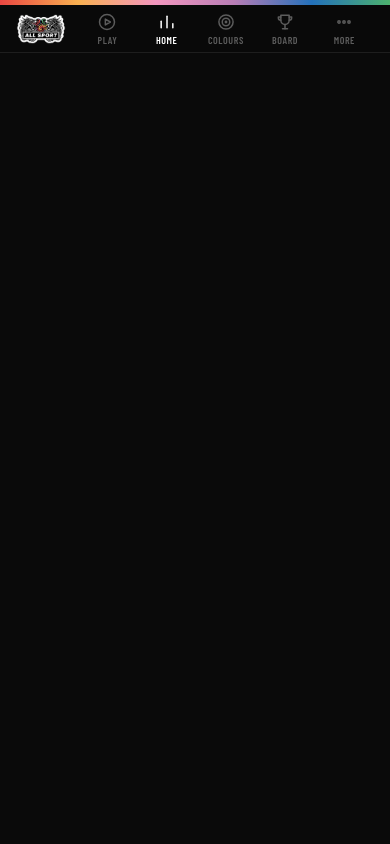
Scenario: phone tabs › MORE opens outside the bar and holds the player’s own things only
Click the button "More" at (344, 28), box [315, 6, 374, 50]
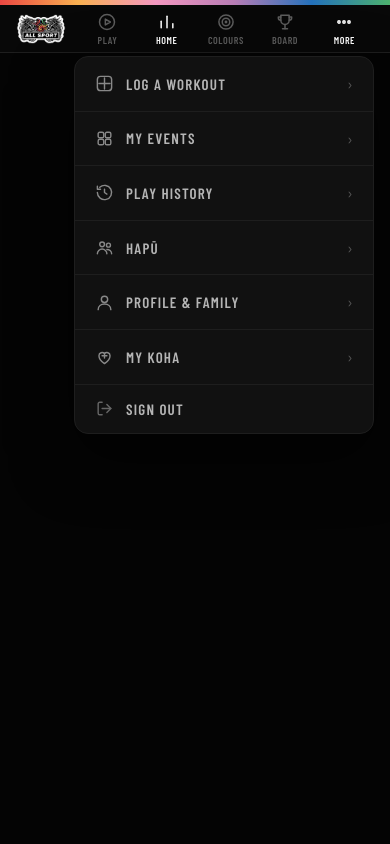
Result: the dialog shows "Log a workout" at [75, 57, 373, 112]
Result: the dialog shows "My events" at [75, 112, 373, 166]
Result: the dialog shows "Play history" at [75, 166, 373, 221]
